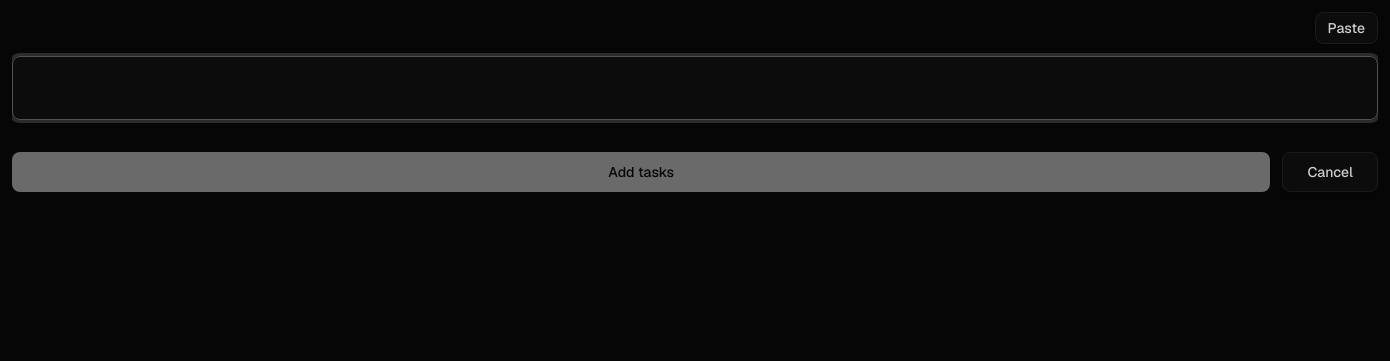
Network Error Handling › handles network failures gracefully
The image size is (1390, 361).
Type "Test task" into the text box at (695, 88), box [12,56,1378,120]
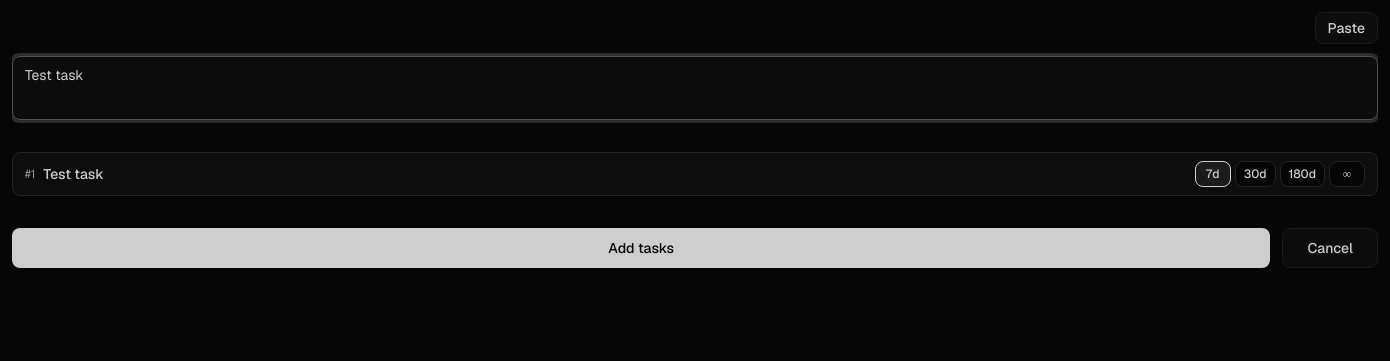
Submit the form "Paste #1 Test task 7d 30d 180d ∞ Add tasks Cancel"
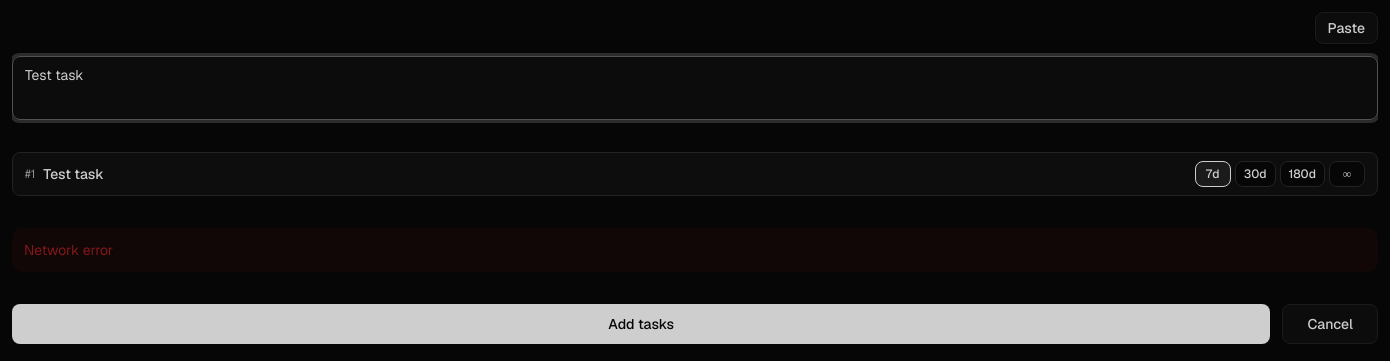
Result: the text "Network error" is shown at [12,228,1378,272]
